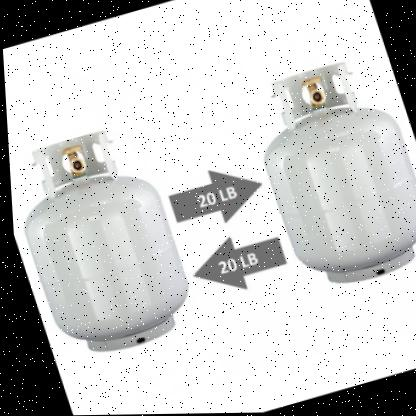gas-tank: (5, 107, 214, 372), (228, 38, 415, 319)
